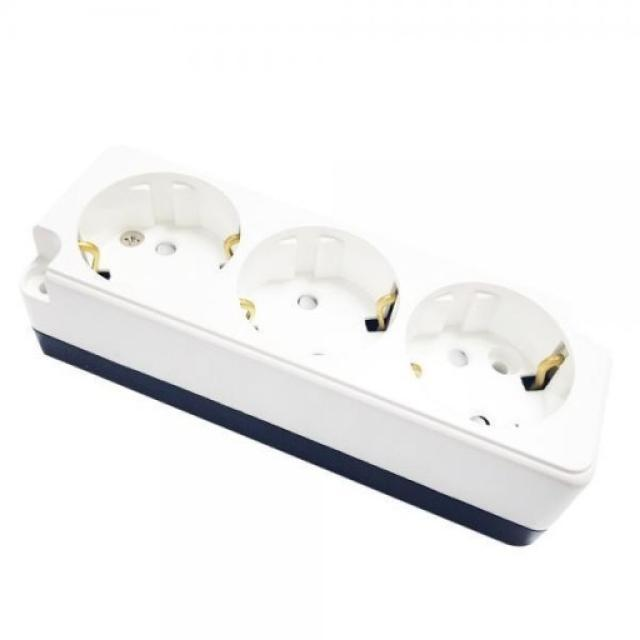typeb: (21, 124, 625, 582)
